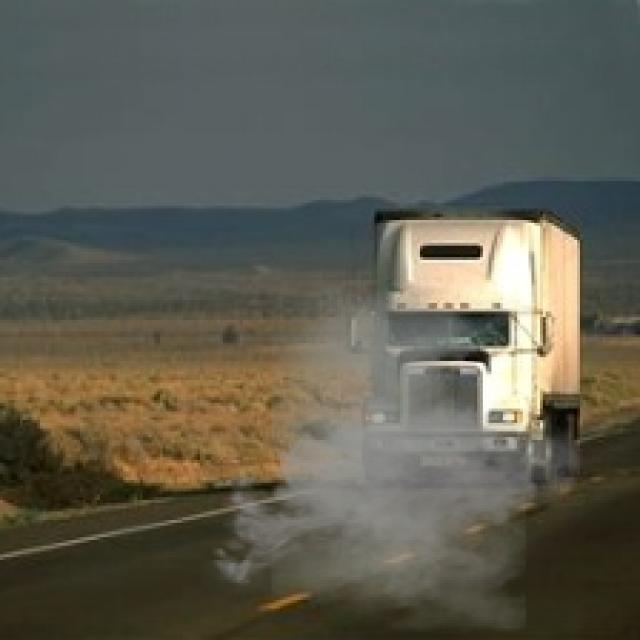Smoke: (200, 286, 597, 632)
